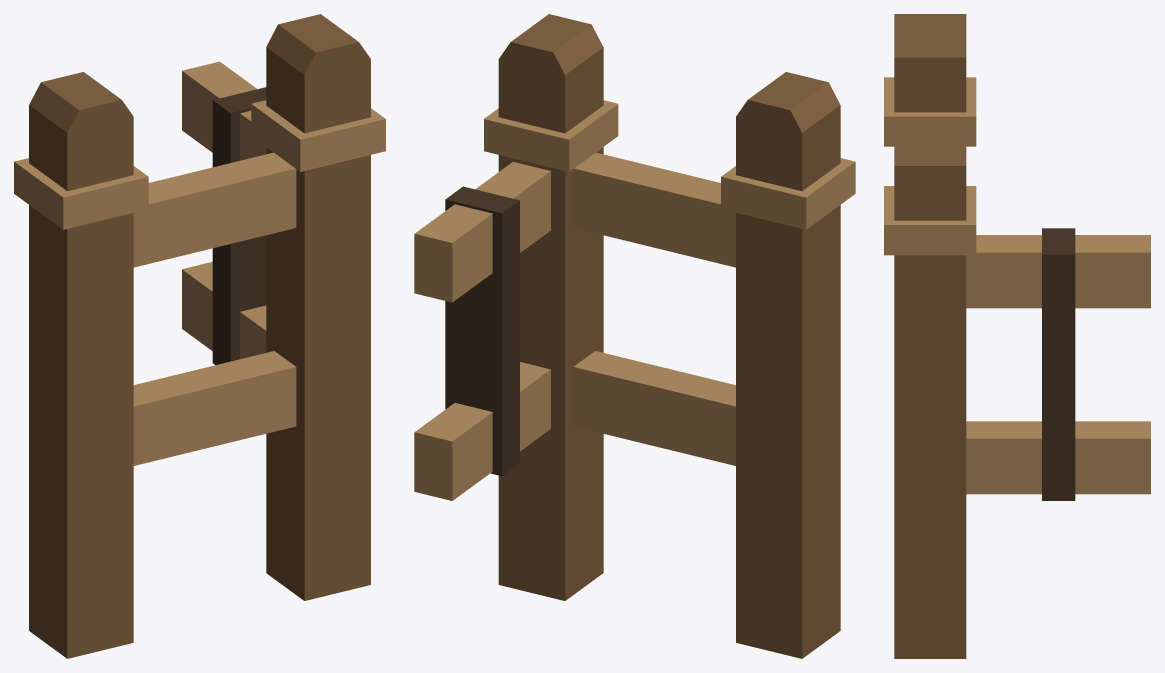
The model's file is TW_WOOD_CORNER_L90_B_LOD0.glb.
3 views of the same model, side by side, from view 1: azimuth 30°, elevation 25°; view 2: azimuth 150°, elevation 25°; view 3: azimuth 270°, elevation 25° (orthographic). The views are drawn at different scales.
Parts seen in each view (by area): view 1: TW_WOOD_CORNER_L90_B_LOD0; view 2: TW_WOOD_CORNER_L90_B_LOD0; view 3: TW_WOOD_CORNER_L90_B_LOD0.
Part boxes in pixels (bbox=[...]): TW_WOOD_CORNER_L90_B_LOD0: bbox=[14, 14, 385, 658]; TW_WOOD_CORNER_L90_B_LOD0: bbox=[414, 14, 855, 658]; TW_WOOD_CORNER_L90_B_LOD0: bbox=[884, 14, 1150, 658].
Bounding box in the file's own units: 0.68 × 1.1 × 0.52.
1 material, 1 textured.
